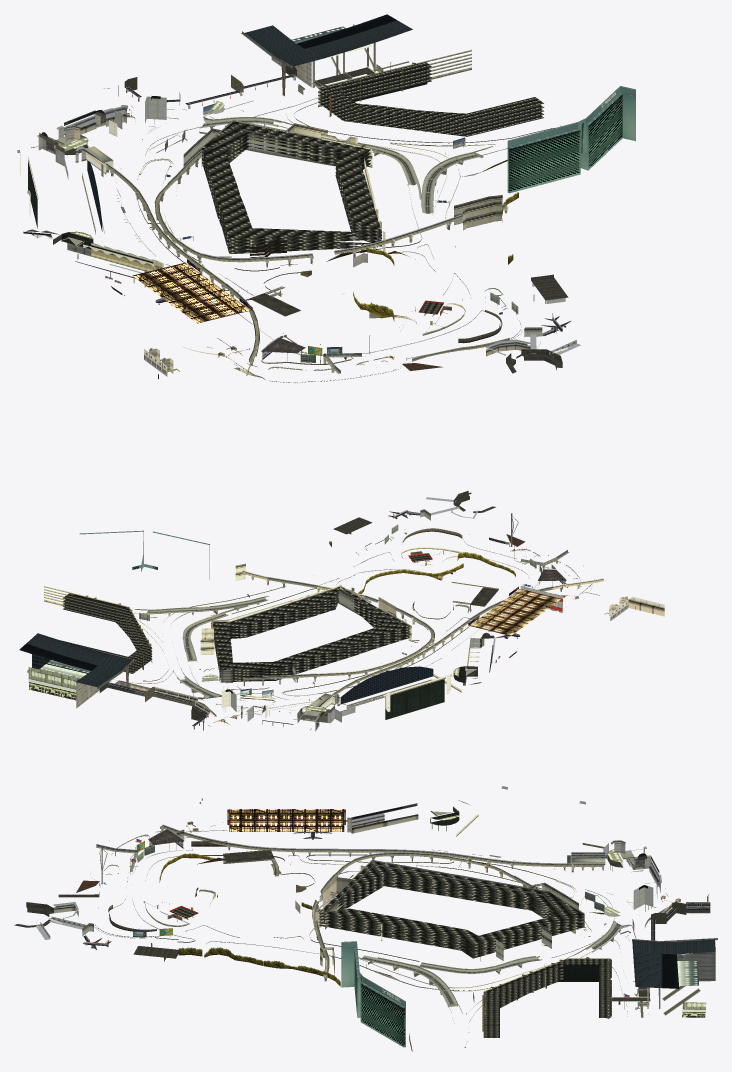
File: track-B2_C2_V2.glb
3 renders of one model, top to bottom at view 1: azimuth 30°, elevation 25°; view 2: azimuth 150°, elevation 25°; view 3: azimuth 270°, elevation 25°, orthographic. The views are drawn at different scales.
Visible parts, largest first — view 1: B2_C2_V2; view 2: B2_C2_V2; view 3: B2_C2_V2.
Part boxes in pixels (x1=…): B2_C2_V2: x1=17, y1=14, x2=635, y2=382; B2_C2_V2: x1=19, y1=491, x2=664, y2=731; B2_C2_V2: x1=14, y1=786, x2=717, y2=1051.
Bounding box in the file's own units: 1295 × 129 × 1379.
Materials: 93 (93 with a texture image).
